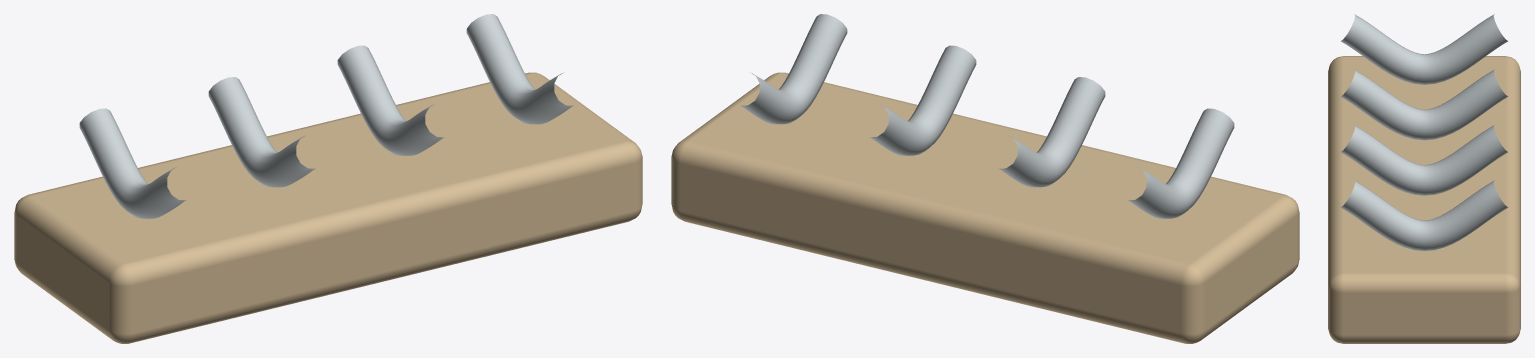
File: tabletop-hobby-store-and-club-brush-rest-cd9f5b9b__31591.glb
3 views of the same model, side by side, from view 1: azimuth 30°, elevation 25°; view 2: azimuth 150°, elevation 25°; view 3: azimuth 270°, elevation 25° (orthographic). The views are drawn at different scales.
Visible parts, largest first — view 1: brush-rest; view 2: brush-rest; view 3: brush-rest.
Boxes of the visible parts, x1,y1,x2,y2 form: brush-rest: [14, 14, 642, 343]; brush-rest: [671, 14, 1299, 343]; brush-rest: [1328, 14, 1520, 343].
Size of the model in its own units: 0.07 by 0.0197 by 0.025.
